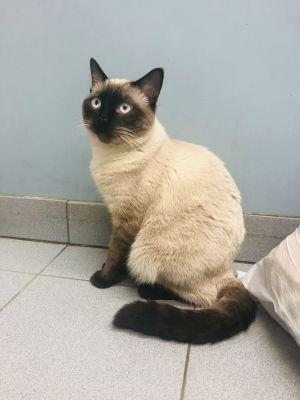siamese: (72, 50, 175, 158)
